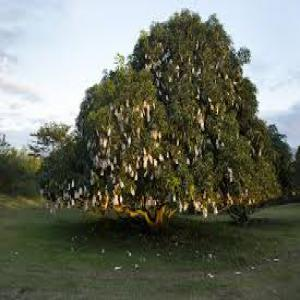Tree: (37, 8, 292, 225)
